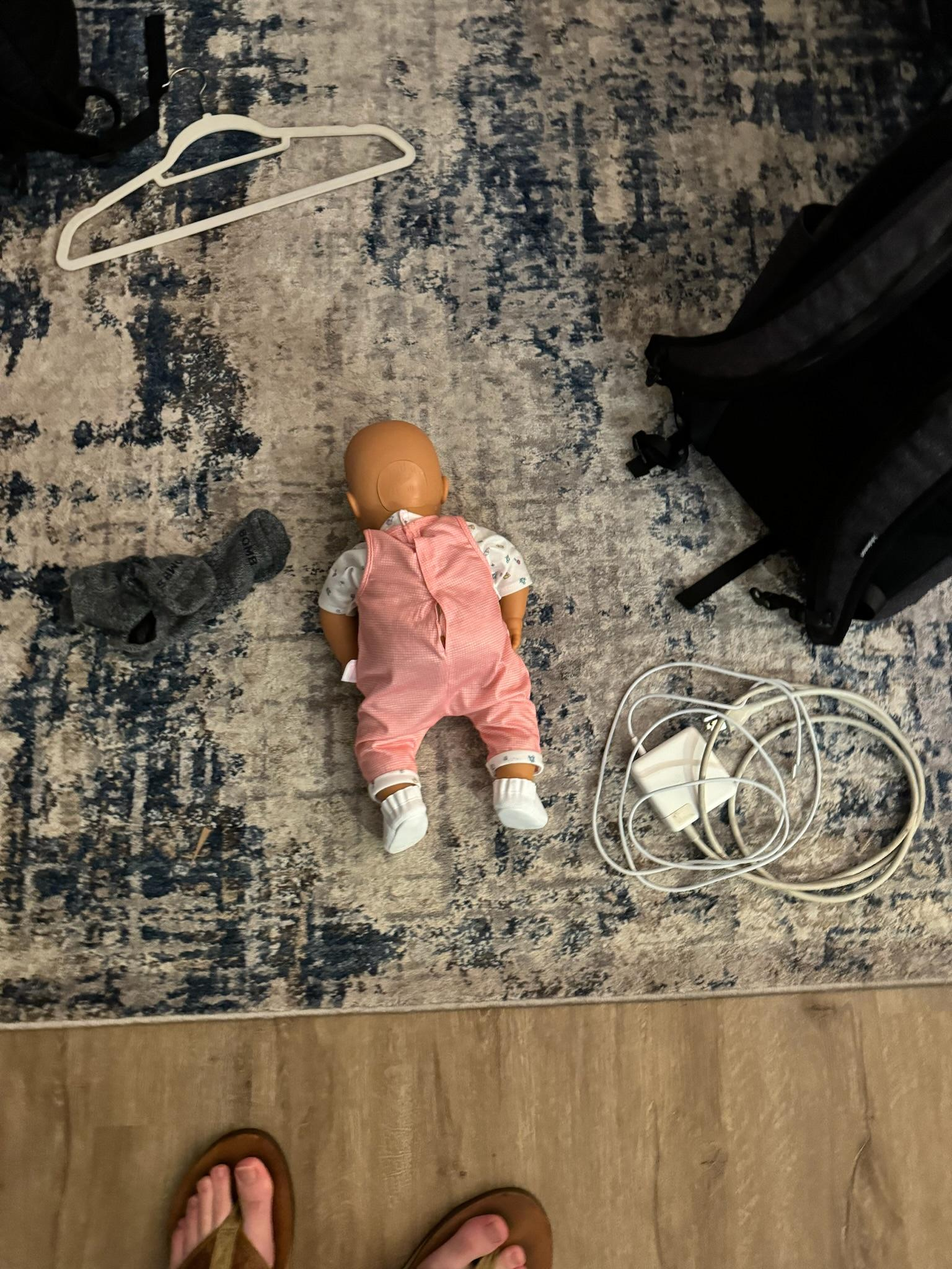baby: (308, 409, 566, 865)
